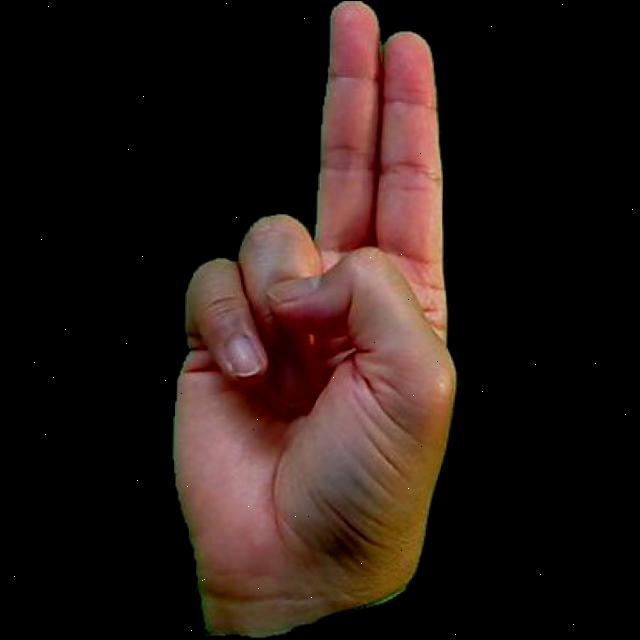u: (145, 0, 476, 639)
